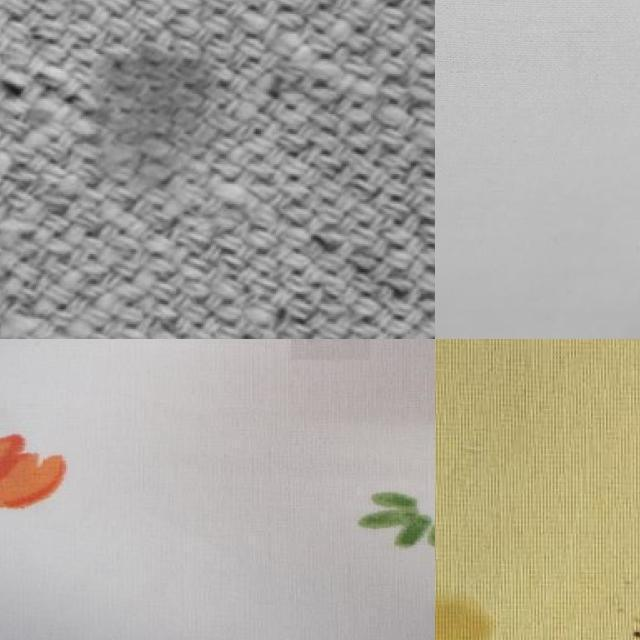Thread_other: (435, 550, 519, 640)
